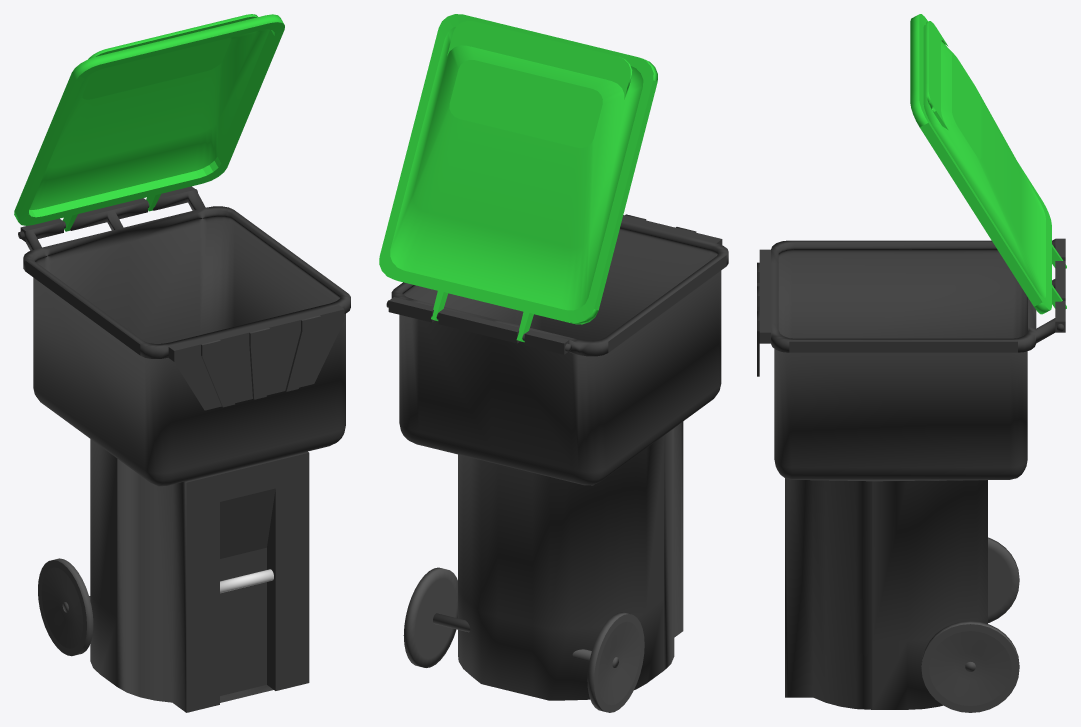
The model's file is trash_green.glb.
3 views of the same model, side by side, from view 1: azimuth 30°, elevation 25°; view 2: azimuth 150°, elevation 25°; view 3: azimuth 270°, elevation 25° (orthographic). The views are drawn at different scales.
Visible parts, largest first — view 1: Green Trash Cart, Green Lid; view 2: Green Trash Cart, Green Lid; view 3: Green Trash Cart, Green Lid.
Part boxes in pixels (box(x1,y1,x2,y2)): Green Trash Cart: box(18, 186, 350, 712); Green Lid: box(14, 14, 284, 231); Green Trash Cart: box(386, 214, 728, 712); Green Lid: box(379, 14, 657, 342); Green Trash Cart: box(757, 238, 1065, 712); Green Lid: box(910, 14, 1066, 314).
Bounding box in the file's own units: 2.6 × 7.27 × 3.34.
